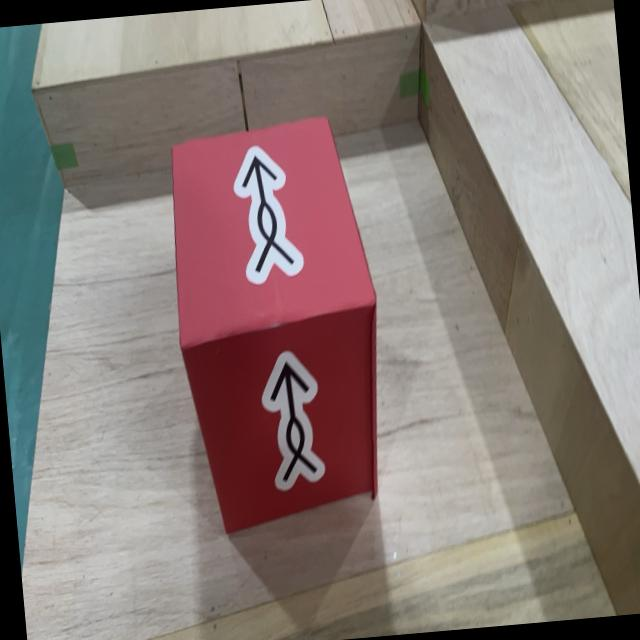12: (228, 140, 306, 286), (256, 346, 328, 494)
fighter: (160, 112, 396, 537)
